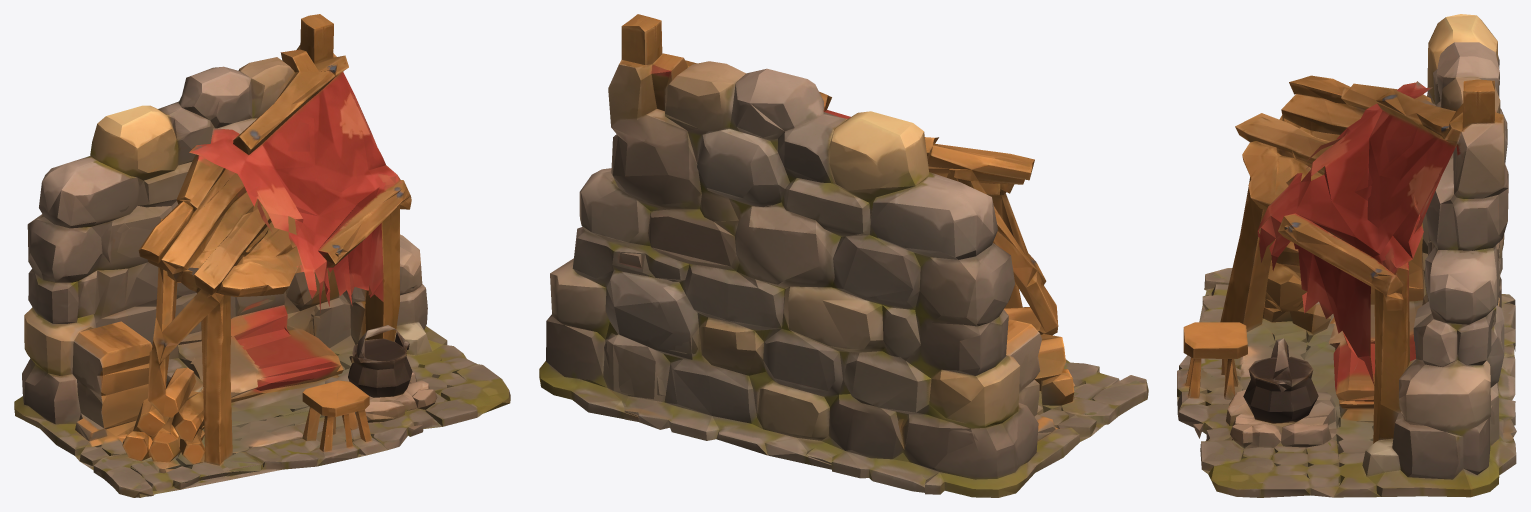
Rendered from TWN_STR_shack_C.glb.
The picture shows the model from 3 angles, left to right: view 1: azimuth 30°, elevation 25°; view 2: azimuth 150°, elevation 25°; view 3: azimuth 270°, elevation 25°; orthographic projection. The views are drawn at different scales.
Visible parts, largest first — view 1: Mesh_0; view 2: Mesh_0; view 3: Mesh_0.
Boxes of the visible parts, x1,y1,x2,y2 form: Mesh_0: (14, 14, 510, 497); Mesh_0: (539, 14, 1148, 497); Mesh_0: (1177, 14, 1516, 497).
Bounding box in the file's own units: 1.9 × 1.46 × 1.23.
1 material, 1 textured.
